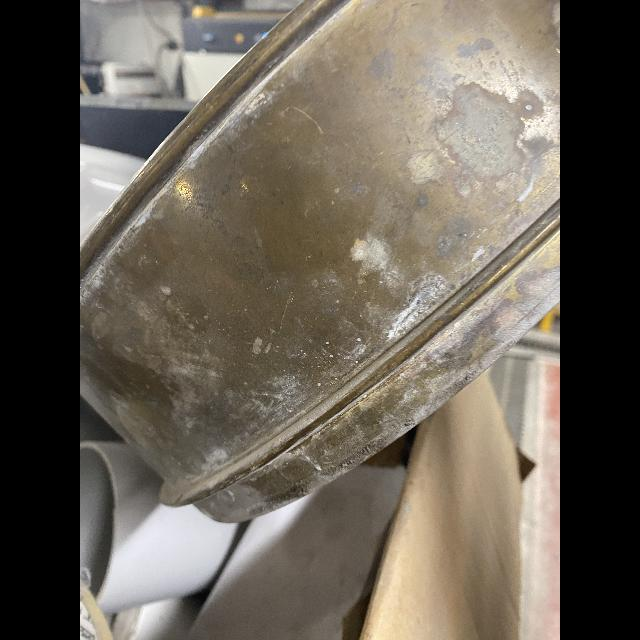Brass: (80, 0, 560, 521)
